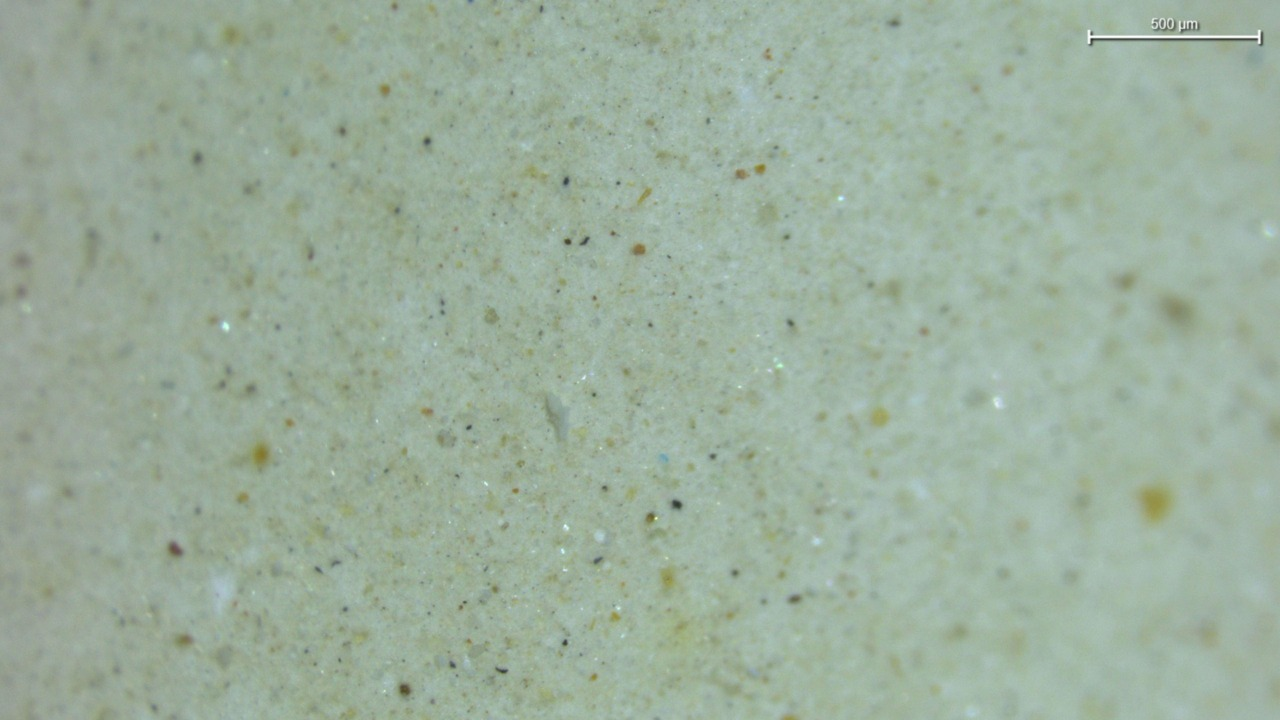microplastic_fragment: (545, 394, 569, 441)
